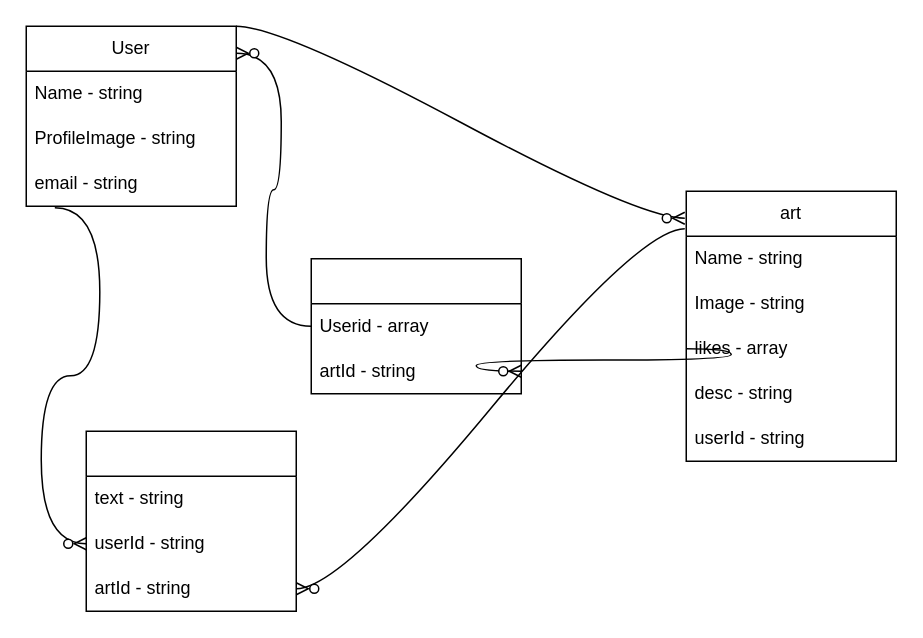
The diagram is 923 pixels wide and 638 high, and some of its shapes have lost their labels. The shapes that lost their labels are listed below. From the top down, each one's box as (x1, y1, x2, y2) in pixels, then its label:
(310, 257, 521, 394): like
(85, 430, 296, 611): Comment
